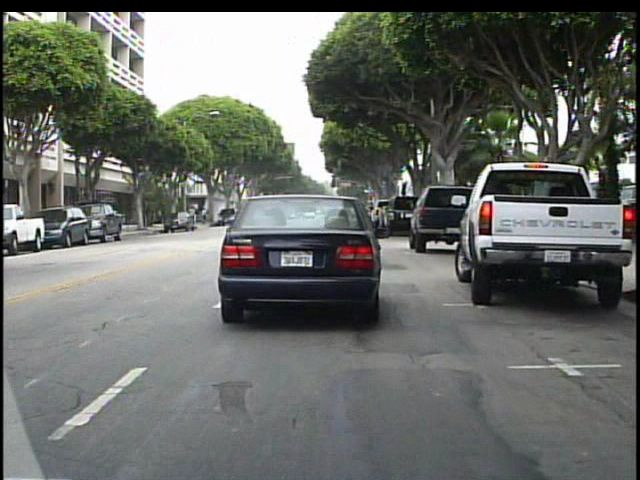person: (200, 203, 212, 227), (187, 203, 198, 228)
